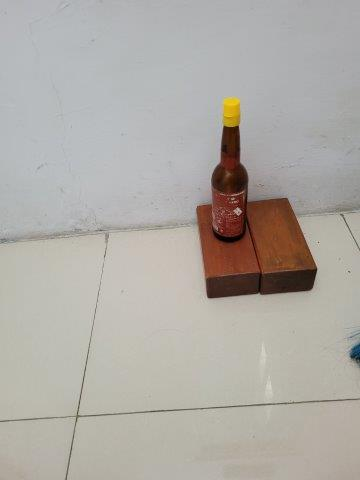botolkaca: (211, 99, 248, 244)
